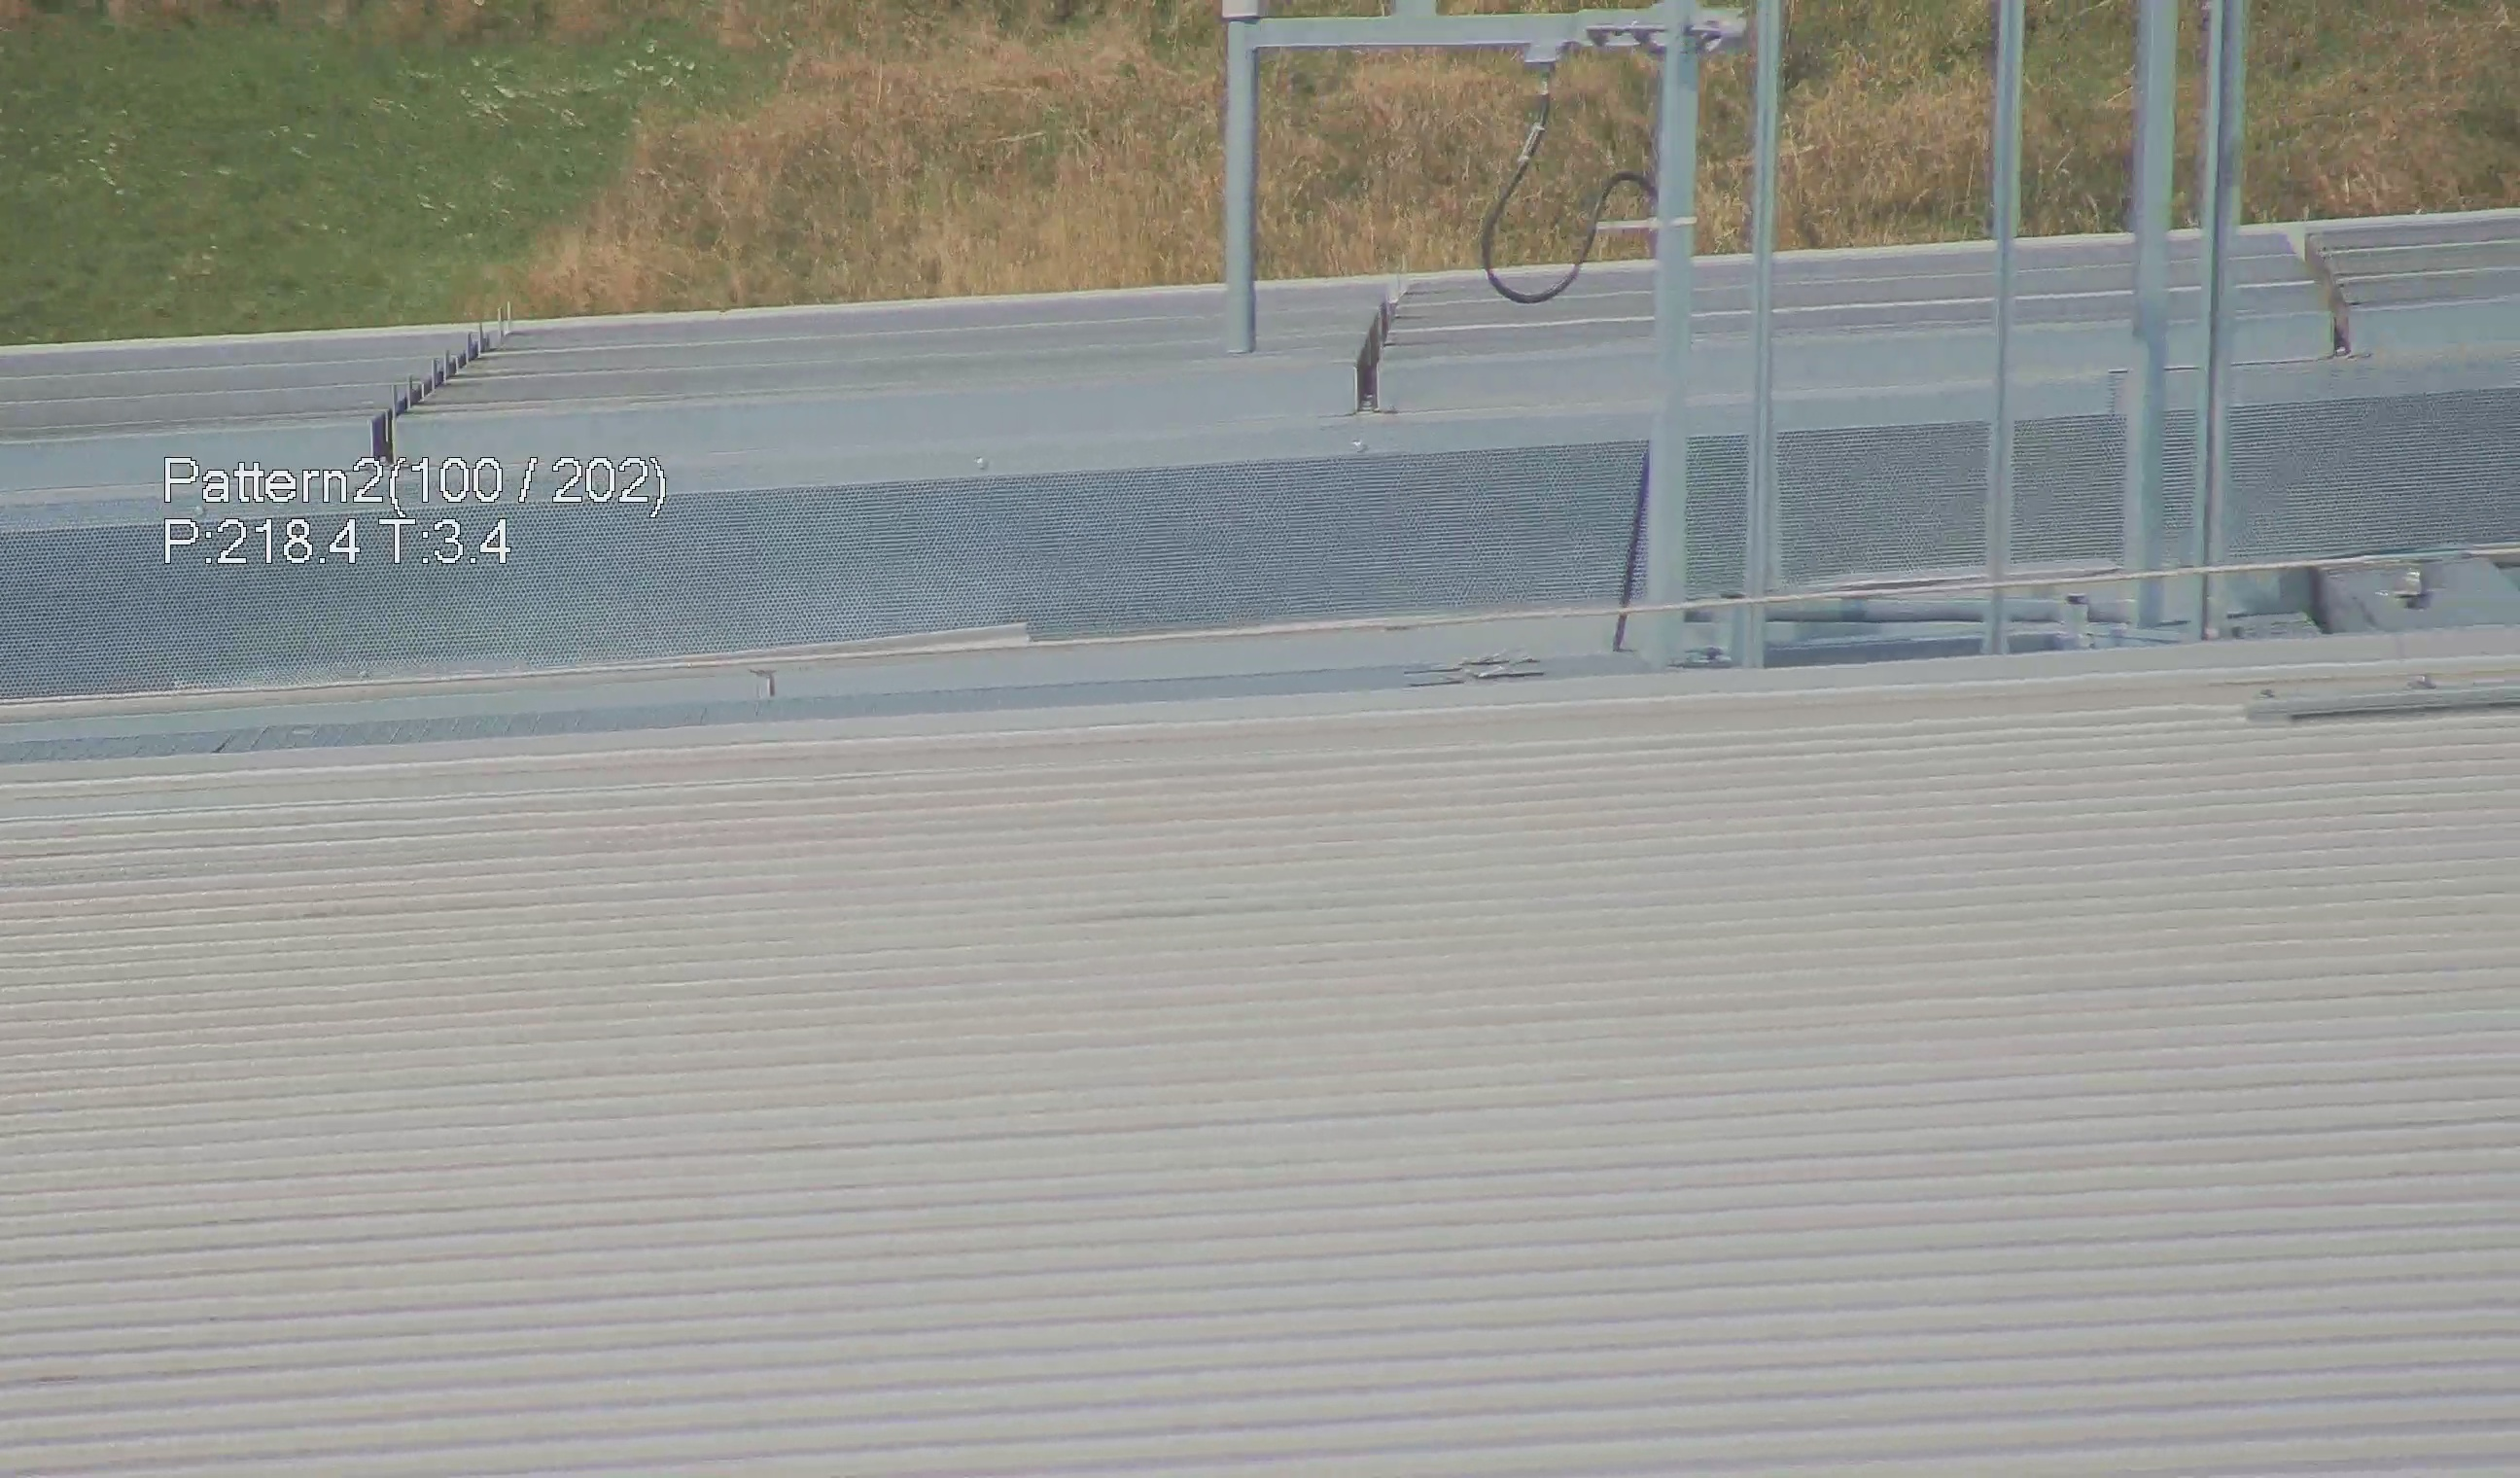Other: (1345, 278, 1424, 408)
